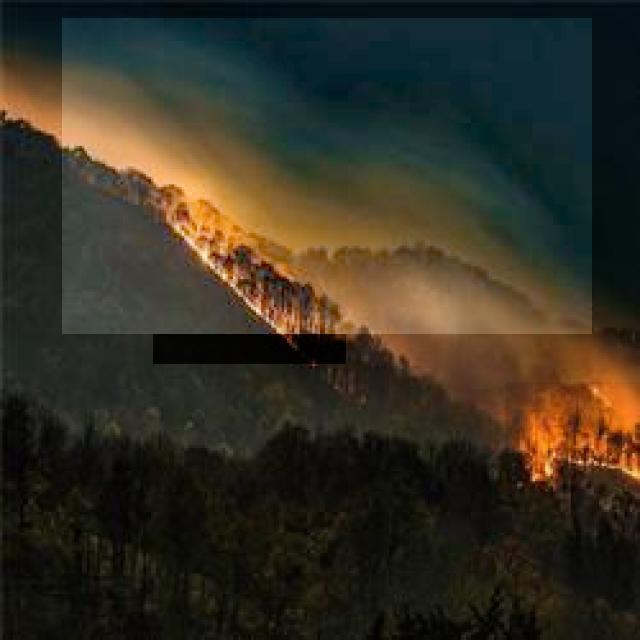Fire: (153, 180, 346, 364), (506, 382, 640, 493)
Smoke: (62, 18, 592, 334)
